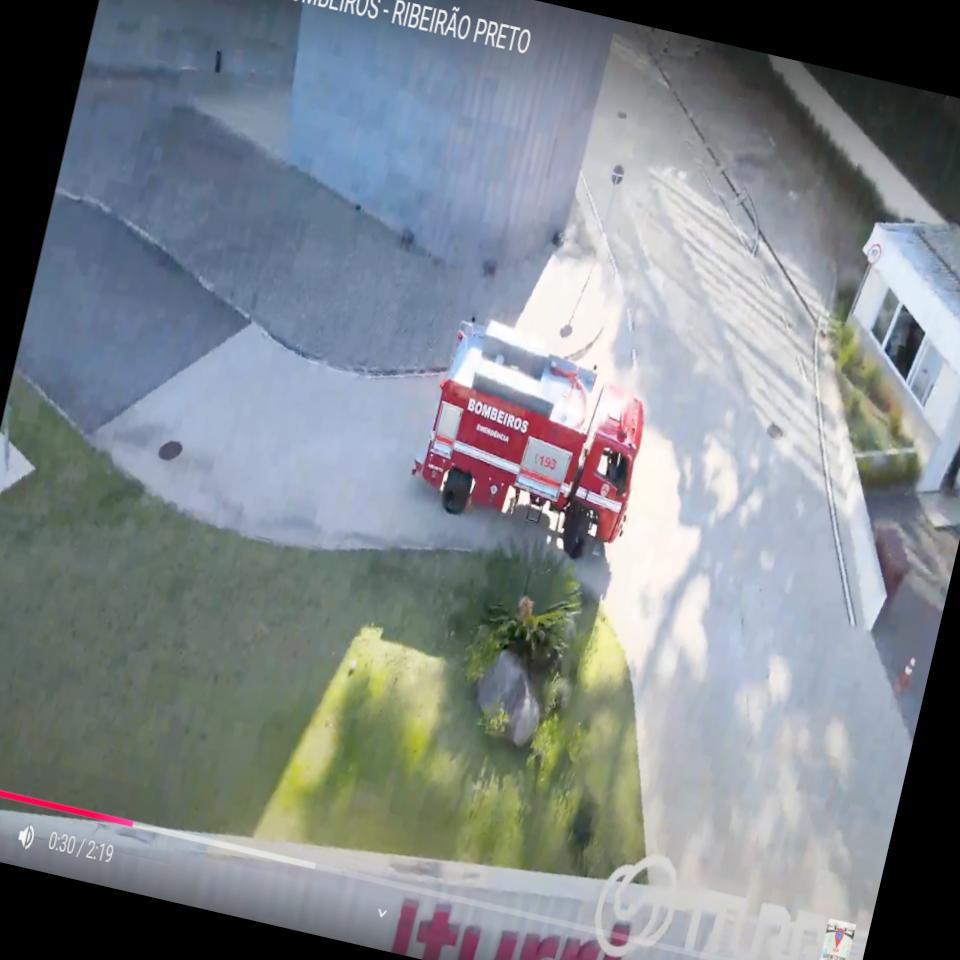viatura: (398, 300, 667, 570)
